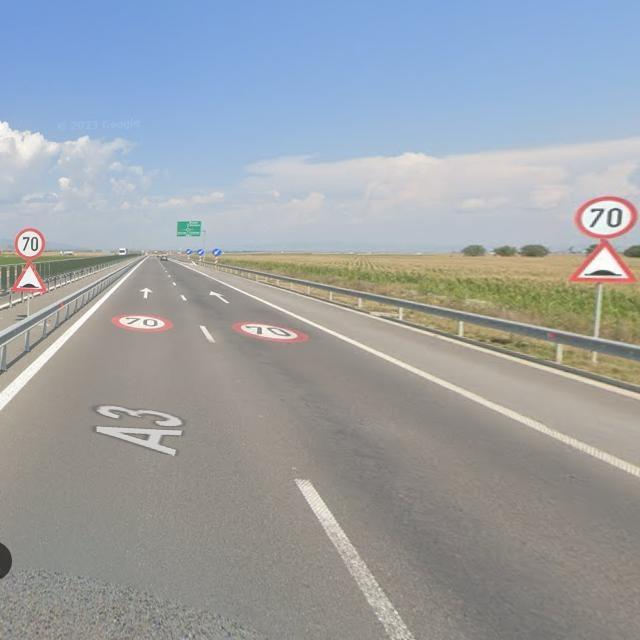forb_speed_over_70: (573, 194, 640, 241), (233, 317, 308, 345), (113, 310, 175, 334), (13, 227, 47, 262)
